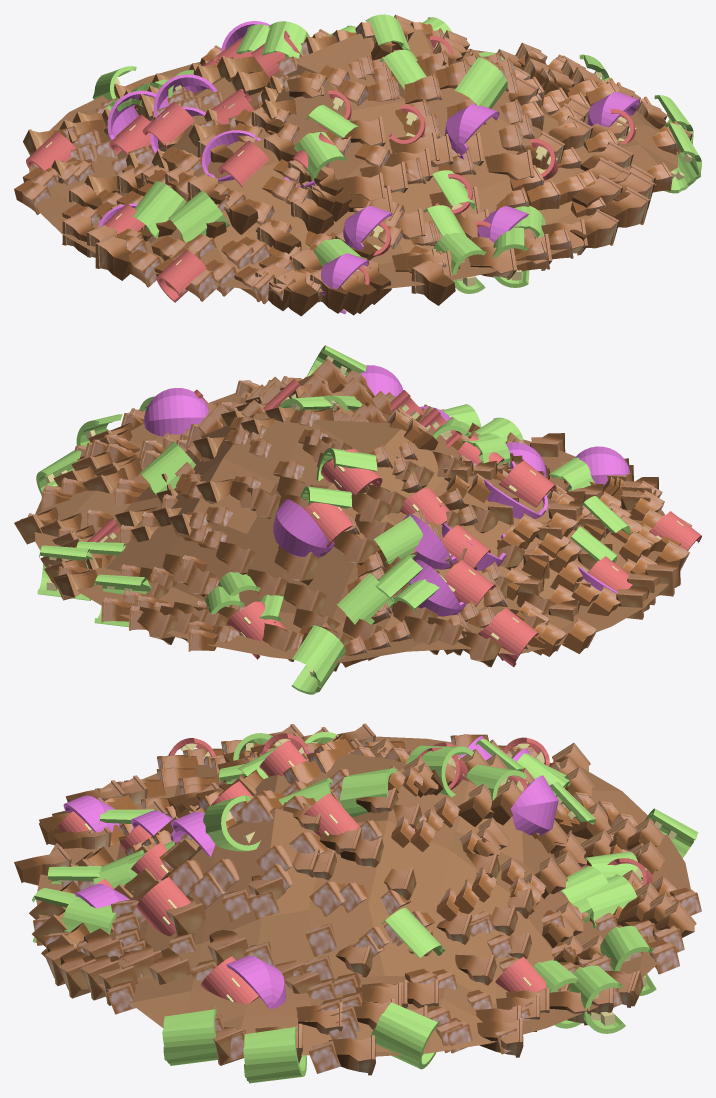
File: cooked sisig.fbx
3 renders of one model, top to bottom at view 1: azimuth 30°, elevation 25°; view 2: azimuth 150°, elevation 25°; view 3: azimuth 270°, elevation 25°, orthographic. The views are drawn at different scales.
Parts seen in each view (by area): view 1: plate surface, plate surface|bell pepper 2|Dupli|22.4, plate surface|bell pepper 2|Dupli|38.4, plate surface|bell pepper 2|Dupli|21.4, plate surface|onion|Dupli|11.3, plate surface|bell pepper 2|Dupli|43.4, plate surface|bell pepper 2|Dupli|20.4, plate surface|bell pepper 1|Dupli|3.2, plate surface|sisig 2|Dupli|155.1, plate surface|sisig 2|Dupli|8.1, plate surface|bell pepper 1|Dupli|5.2, plate surface|bell pepper 1|Dupli|7.2 (+95 smaller); view 2: plate surface, plate surface|onion|Dupli|6.3, plate surface|bell pepper 2|Dupli|35.4, plate surface|onion|Dupli|7.3, plate surface|bell pepper 1|Dupli|15.2, plate surface|bell pepper 2|Dupli|30.4, plate surface|bell pepper 1|Dupli|7.2, plate surface|bell pepper 2|Dupli|23.4, plate surface|bell pepper 2|Dupli|27.4, plate surface|bell pepper 1|Dupli|14.2, plate surface|onion|Dupli|9.3, plate surface|onion|Dupli|13.3 (+65 smaller); view 3: plate surface, plate surface|bell pepper 2|Dupli|19.4, plate surface|bell pepper 2|Dupli|25.4, plate surface|bell pepper 2|Dupli|20.4, plate surface|onion|Dupli|7.3, plate surface|bell pepper 2|Dupli|15.4, plate surface|onion|Dupli|6.3, plate surface|bell pepper 1|Dupli|19.2, plate surface|bell pepper 2|Dupli|34.4, plate surface|bell pepper 2|Dupli|17.4, plate surface|bell pepper 2|Dupli|22.4, plate surface|bell pepper 1|Dupli|11.2 (+78 smaller).
Part boxes in pixels (x1=…): plate surface: x1=29, y1=29, x2=678, y2=291; plate surface|bell pepper 2|Dupli|22.4: x1=455, y1=56, x2=507, y2=108; plate surface|bell pepper 2|Dupli|38.4: x1=168, y1=190, x2=229, y2=242; plate surface|bell pepper 2|Dupli|21.4: x1=132, y1=181, x2=186, y2=238; plate surface|onion|Dupli|11.3: x1=444, y1=103, x2=499, y2=159; plate surface|bell pepper 2|Dupli|43.4: x1=432, y1=232, x2=486, y2=293; plate surface|bell pepper 2|Dupli|20.4: x1=664, y1=123, x2=701, y2=193; plate surface|bell pepper 1|Dupli|3.2: x1=156, y1=250, x2=206, y2=302; plate surface|sisig 2|Dupli|155.1: x1=411, y1=260, x2=455, y2=305; plate surface|sisig 2|Dupli|8.1: x1=95, y1=235, x2=131, y2=280; plate surface|bell pepper 1|Dupli|5.2: x1=142, y1=101, x2=194, y2=149; plate surface|bell pepper 1|Dupli|7.2: x1=218, y1=140, x2=269, y2=187; plate surface: x1=34, y1=373, x2=668, y2=663; plate surface|onion|Dupli|6.3: x1=144, y1=388, x2=209, y2=436; plate surface|bell pepper 2|Dupli|35.4: x1=291, y1=625, x2=345, y2=694; plate surface|onion|Dupli|7.3: x1=273, y1=499, x2=334, y2=557; plate surface|bell pepper 1|Dupli|15.2: x1=478, y1=607, x2=538, y2=666; plate surface|bell pepper 2|Dupli|30.4: x1=337, y1=571, x2=394, y2=624; plate surface|bell pepper 1|Dupli|7.2: x1=498, y1=460, x2=555, y2=507; plate surface|bell pepper 2|Dupli|23.4: x1=140, y1=441, x2=195, y2=494; plate surface|bell pepper 2|Dupli|27.4: x1=374, y1=514, x2=422, y2=564; plate surface|bell pepper 1|Dupli|14.2: x1=444, y1=560, x2=494, y2=606; plate surface|onion|Dupli|9.3: x1=409, y1=559, x2=466, y2=616; plate surface|onion|Dupli|13.3: x1=575, y1=446, x2=629, y2=484; plate surface: x1=36, y1=736, x2=690, y2=1056; plate surface|bell pepper 2|Dupli|19.4: x1=243, y1=1025, x2=306, y2=1083; plate surface|bell pepper 2|Dupli|25.4: x1=370, y1=1002, x2=439, y2=1069; plate surface|bell pepper 2|Dupli|20.4: x1=162, y1=1007, x2=217, y2=1065; plate surface|onion|Dupli|7.3: x1=511, y1=775, x2=558, y2=835; plate surface|bell pepper 2|Dupli|15.4: x1=568, y1=965, x2=625, y2=1033; plate surface|onion|Dupli|6.3: x1=226, y1=955, x2=285, y2=1008; plate surface|bell pepper 1|Dupli|19.2: x1=136, y1=877, x2=190, y2=936; plate surface|bell pepper 2|Dupli|34.4: x1=600, y1=926, x2=656, y2=995; plate surface|bell pepper 2|Dupli|17.4: x1=339, y1=768, x2=396, y2=816; plate surface|bell pepper 2|Dupli|22.4: x1=203, y1=795, x2=260, y2=851; plate surface|bell pepper 1|Dupli|11.2: x1=200, y1=956, x2=259, y2=1004.
Size of the model in its own units: 101 by 26.65 by 89.52.
10 materials, 2 textured.
